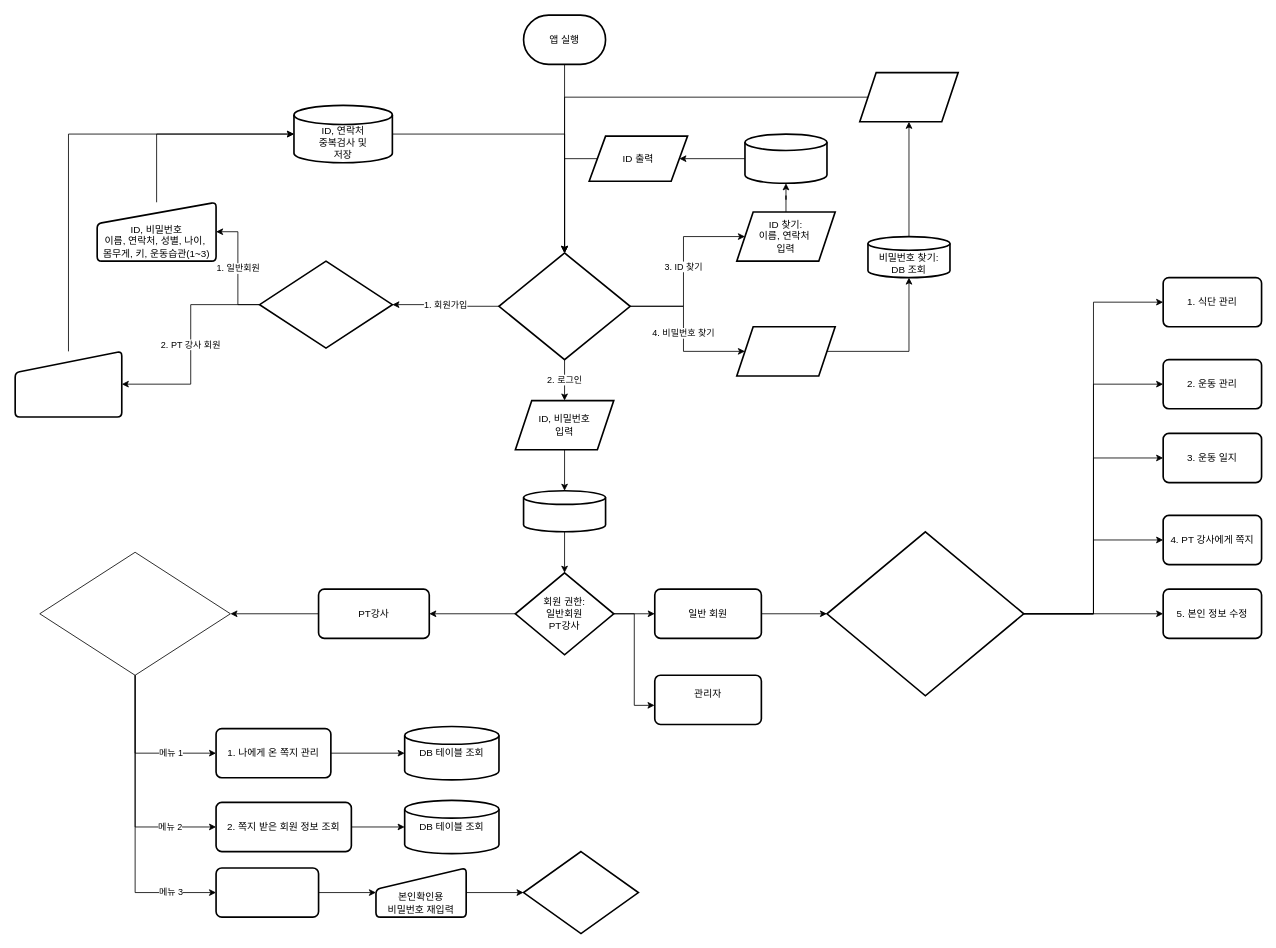
The diagram is 1276 pixels wide and 948 high, and some of its shapes have lost their labels. The shapes that lost their labels are listed below. From the top down, each one's centre as x and y in pixels, then its label:
At pixel 909 96: "비밀번호 출력".
At pixel 785 158: "ID 찾기: DB 조회".
At pixel 325 304: "신규 회원 구분 1. 일반 회원 2. PT 강사 회원".
At pixel 564 306: "1 : 신규회원 2 : 로그인 3 : ID찾기 4 : 비밀번호찾기".
At pixel 786 351: "비밀번호 찾기: ID, 이름, 연락처 입력".
At pixel 68 383: "ID, 비밀번호 이름, 연락처, 생년월일(자격증조회)".
At pixel 564 511: "로그인 : DB 조회".
At pixel 134 613: "메뉴 표시: 현재 읽지 않은 쪽지 수 메뉴 입력: 1. 나에게 온 쪽지 관리 2. 쪽지 받은 회원 정보 조회 3. 본인 정보 수정".
At pixel 925 613: "메뉴 표시: 현재 남은 칼로리 메뉴 입력 1. 식단 관리 2. 운동 관리 3. PT 강사에게 쪽지 4. 본인 정보 수정".
At pixel 267 892: "3. 본인 정보 수정".
At pixel 580 892: "변경할 정보 메뉴 1. 비밀번호 2. 연락처".
